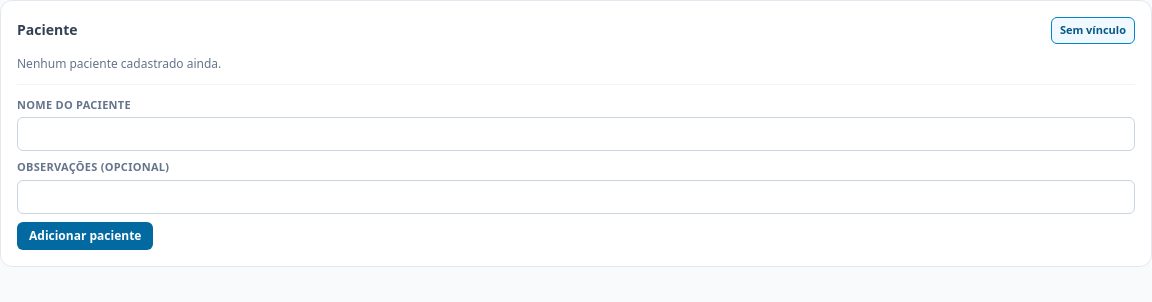
PatientPicker › cria um paciente e o seleciona
Type "Maria S." into the field labelled "Nome do paciente".
click(576, 134); type("Maria S.")  # box [17,117,1135,151]
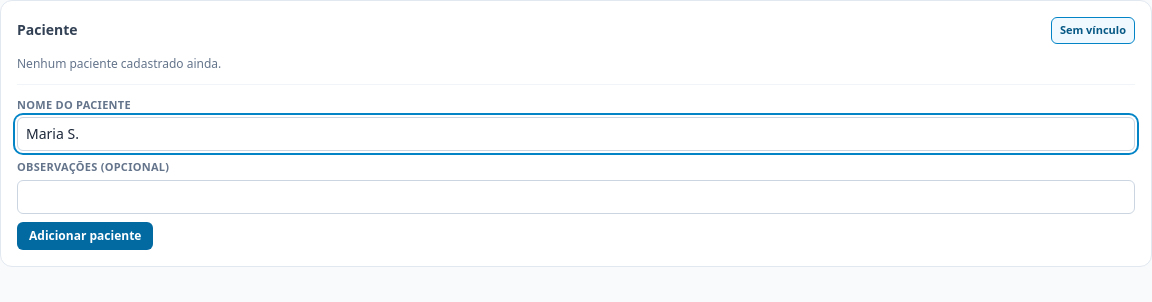
Click the button "Adicionar paciente".
click(85, 236)  # box [17,222,154,250]
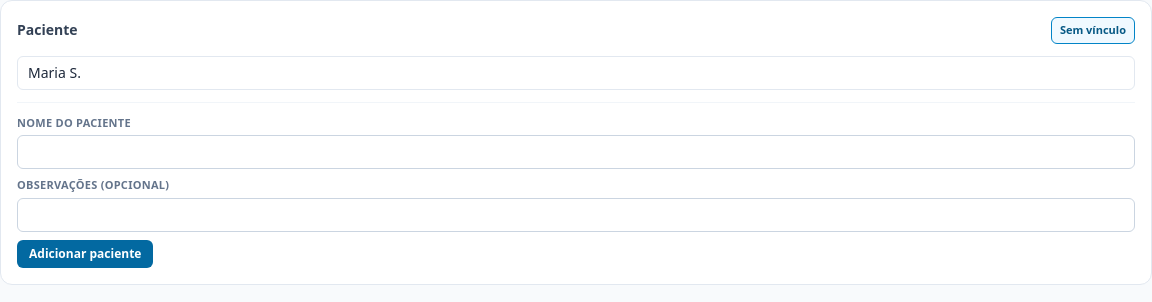
Now the button "Maria S." is shown, box [17,56,1135,90]
